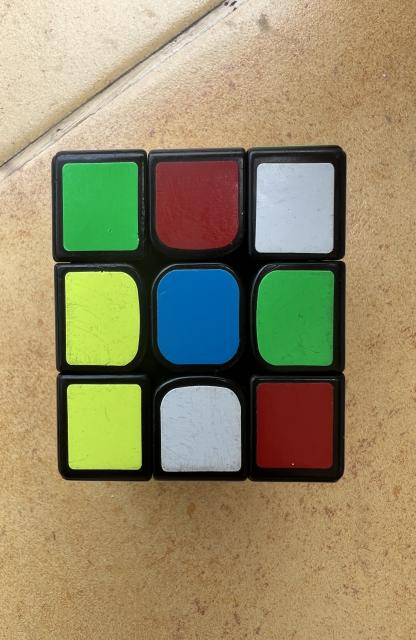Blue: (157, 269, 239, 365)
Green: (257, 270, 334, 366), (62, 162, 140, 251)
Red: (156, 160, 238, 250), (257, 382, 334, 469)
White: (256, 162, 335, 254), (160, 385, 242, 471)
Yellow: (65, 271, 140, 366), (67, 384, 142, 470)
